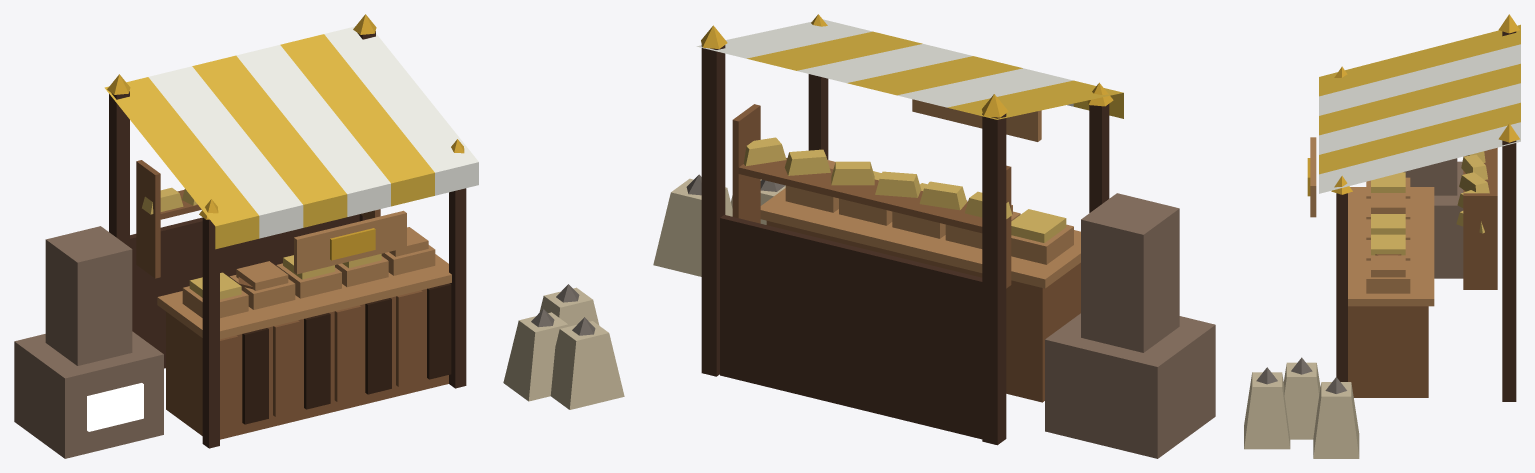
The model's file is stall_bread.fbx.
3 views of the same model, side by side, from view 1: azimuth 30°, elevation 25°; view 2: azimuth 150°, elevation 25°; view 3: azimuth 270°, elevation 25° (orthographic). The views are drawn at different scales.
Visible parts, largest first — view 1: stall_bread; view 2: stall_bread; view 3: stall_bread.
Boxes of the visible parts, bbox=[...] form: stall_bread: bbox=[14, 14, 624, 458]; stall_bread: bbox=[653, 14, 1215, 458]; stall_bread: bbox=[1244, 14, 1520, 458].
Bounding box in the file's own units: 4.6 × 2.64 × 2.4.
